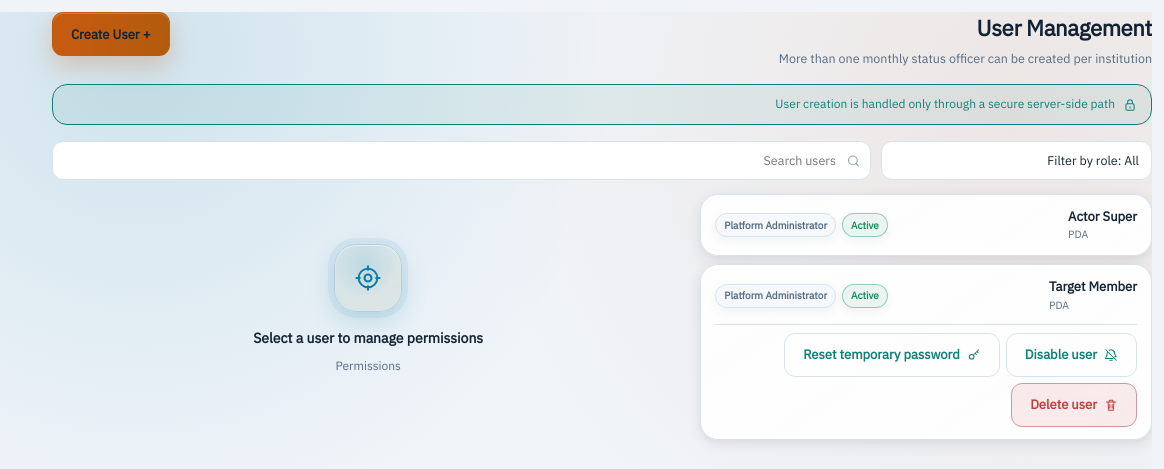
Scenario: P1 — authority boundaries are unchanged › self-edit: the actor gets no matrix for their own account and nothing is sent
Click the text "Actor Super": (1103, 217) x1=1068 y1=207 x2=1137 y2=227
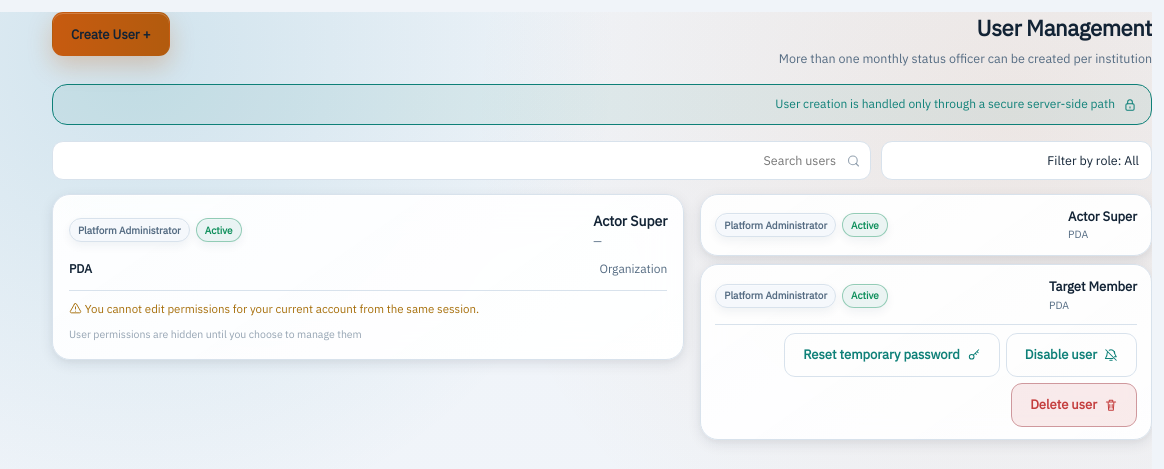
Expected: the text "You cannot edit permissions for your current account from the same session." is shown, x1=69 y1=301 x2=479 y2=318
